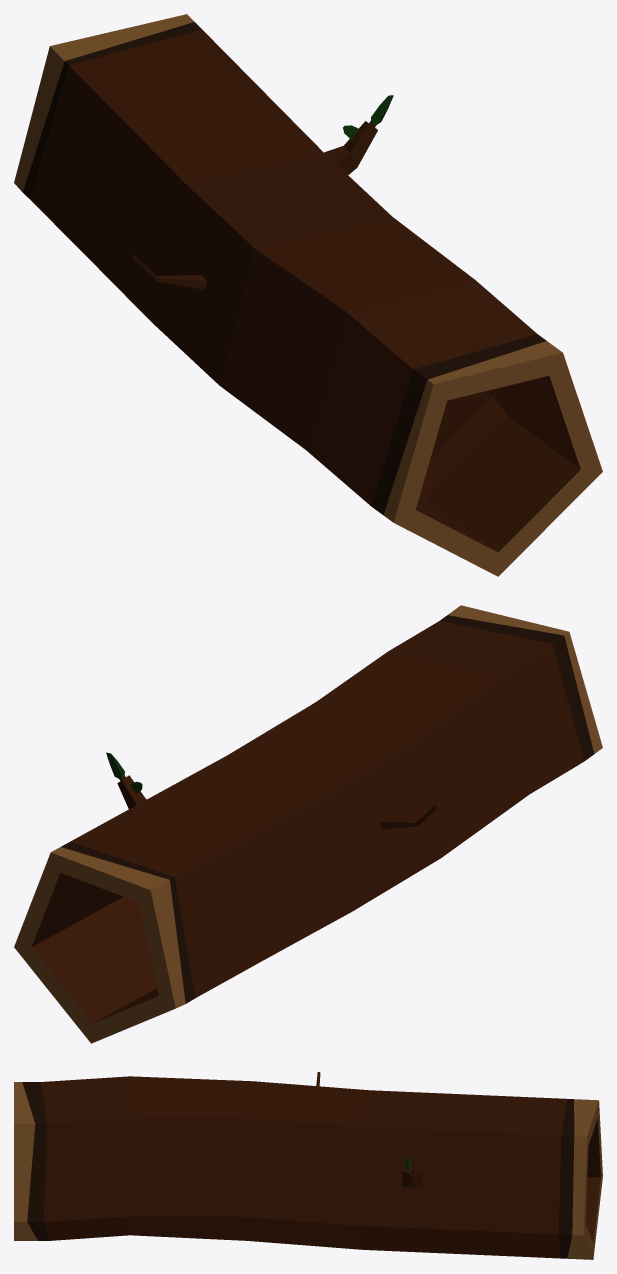
File: tronconochao.FBX
3 renders of one model, top to bottom at view 1: azimuth 30°, elevation 25°; view 2: azimuth 150°, elevation 25°; view 3: azimuth 270°, elevation 25°, orthographic. The views are drawn at different scales.
Parts seen in each view (by area): view 1: Tube001; view 2: Tube001; view 3: Tube001.
Part boxes in pixels (bbox=[...]): Tube001: bbox=[14, 14, 602, 576]; Tube001: bbox=[14, 605, 602, 1043]; Tube001: bbox=[14, 1072, 602, 1259].
Size of the model in its own units: 1972 by 1253 by 4615.
